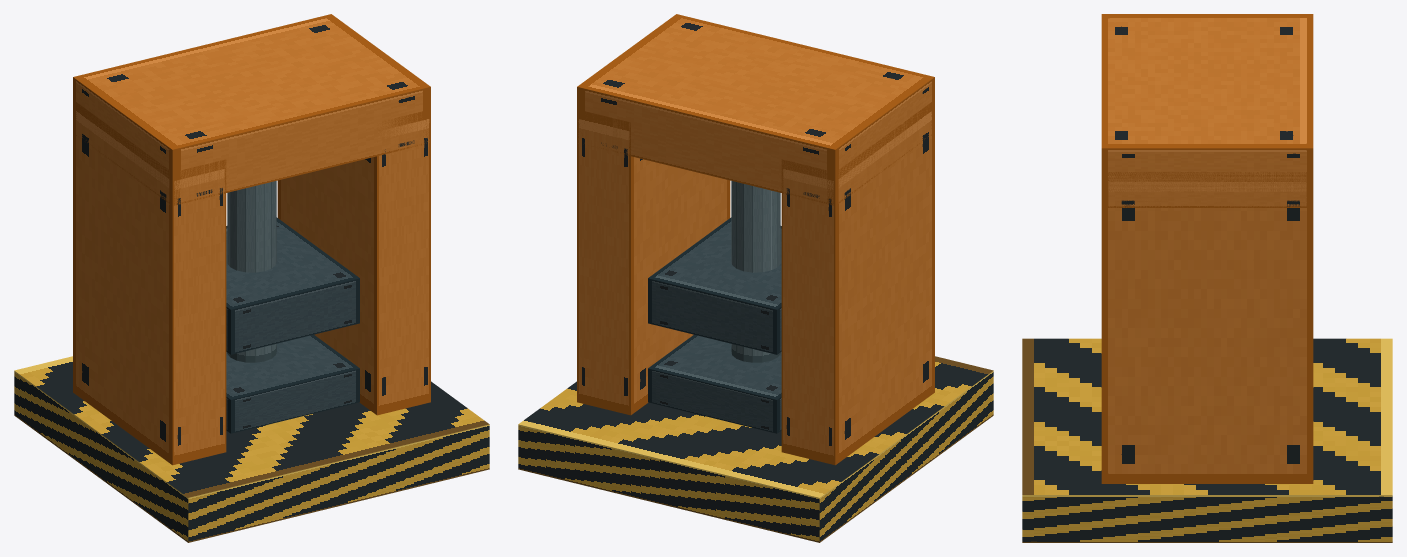
Rendered from detail_press.obj.
3 renders of one model, left to right at view 1: azimuth 30°, elevation 25°; view 2: azimuth 150°, elevation 25°; view 3: azimuth 270°, elevation 25°, orthographic. The views are drawn at different scales.
Size of the model in its own units: 1.75 by 2 by 1.75.
